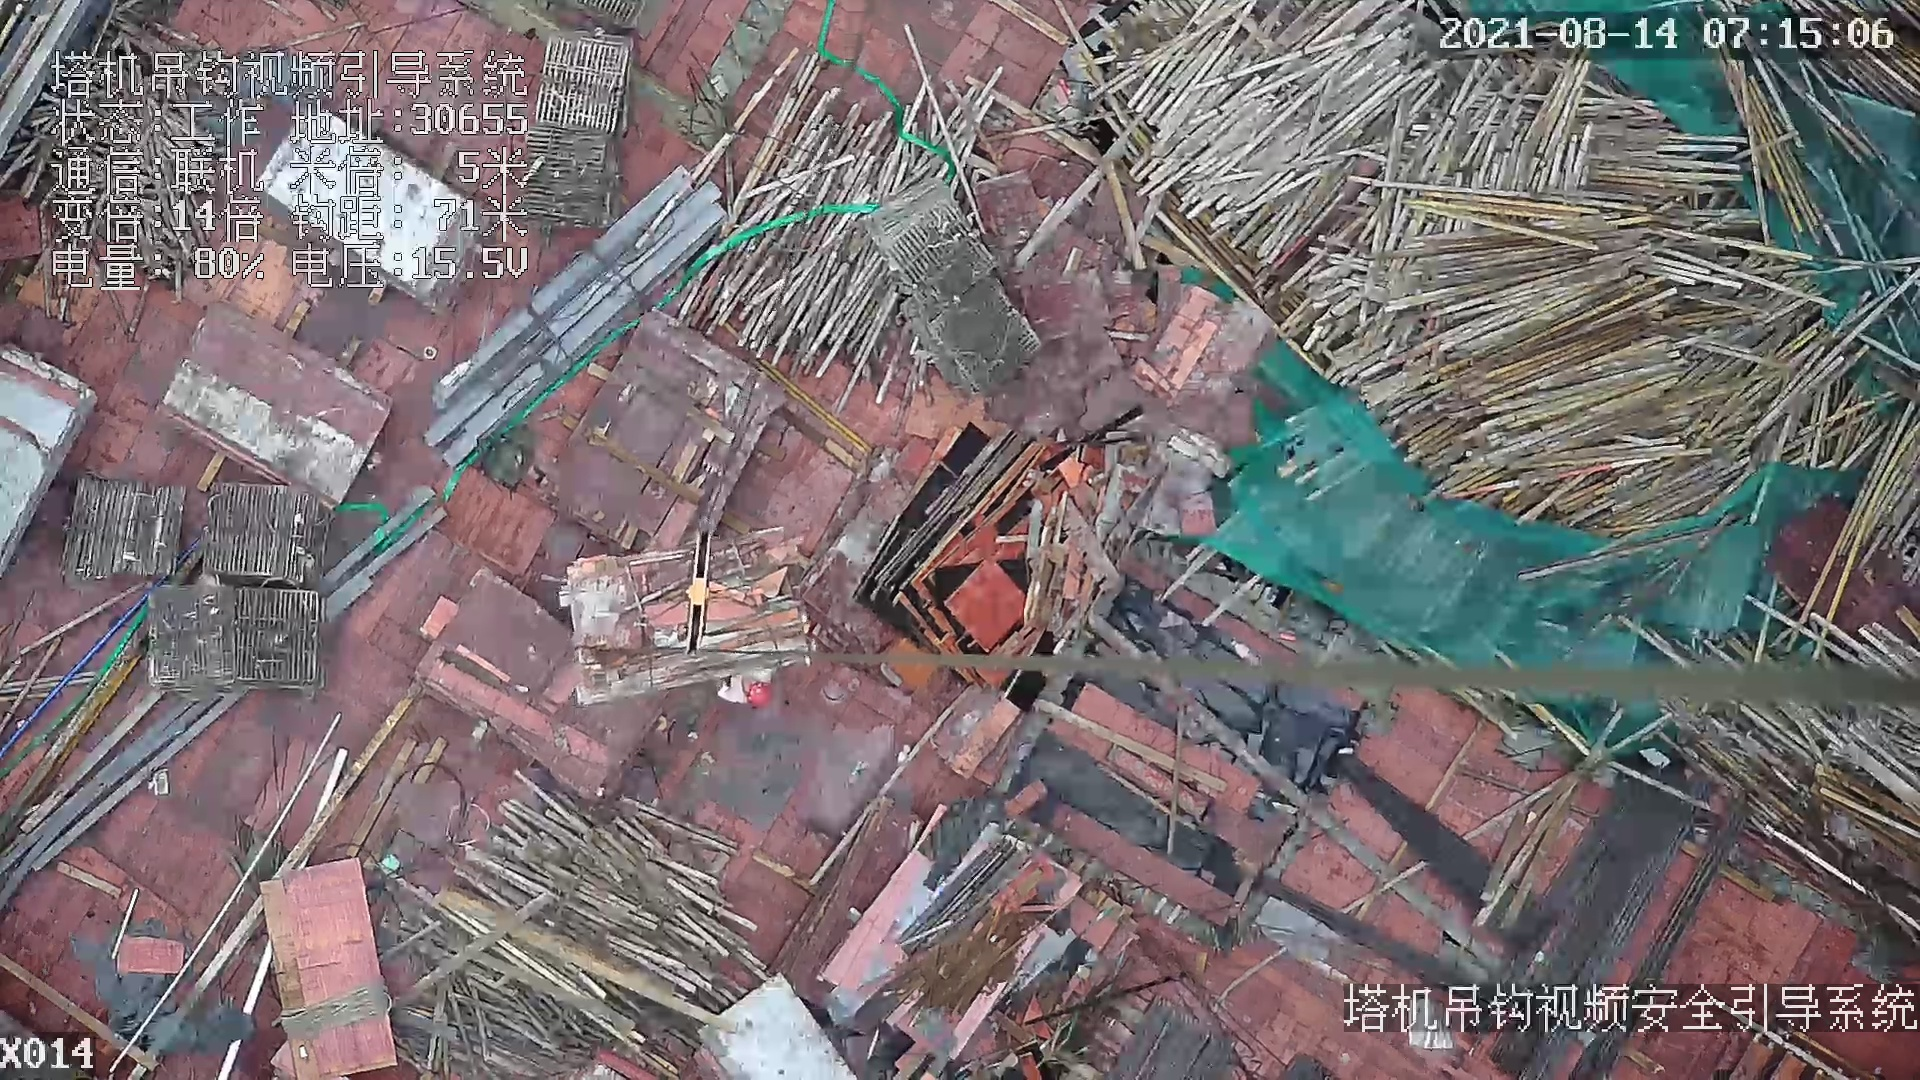helmet: (747, 682, 770, 702)
hook: (679, 528, 713, 662)
person: (714, 667, 774, 704)
